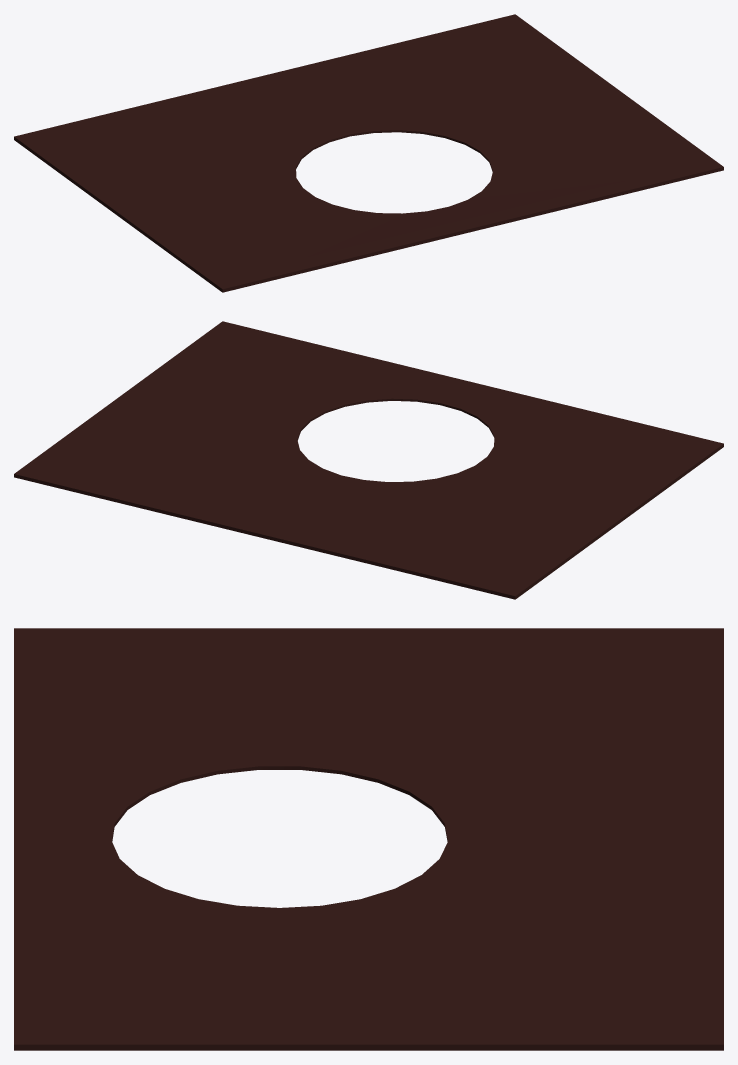
Rendered from museum_ceiling.FBX.
The picture shows the model from 3 angles, top to bottom: view 1: azimuth 30°, elevation 25°; view 2: azimuth 150°, elevation 25°; view 3: azimuth 270°, elevation 25°; orthographic projection. The views are drawn at different scales.
Parts seen in each view (by area): view 1: museum_ceiling; view 2: museum_ceiling; view 3: museum_ceiling.
Part boxes in pixels (x1=…): museum_ceiling: x1=14, y1=14, x2=723, y2=292; museum_ceiling: x1=14, y1=321, x2=723, y2=599; museum_ceiling: x1=14, y1=628, x2=723, y2=1050.
Bounding box in the file's own units: 2400 × 15.66 × 1730.
